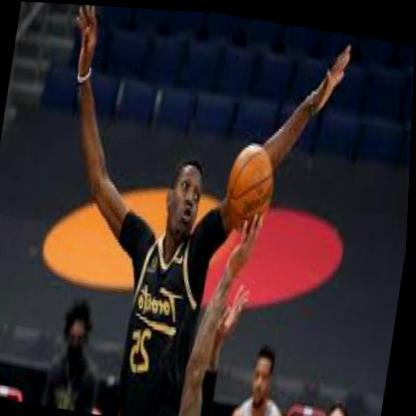basketball: (222, 136, 282, 234)
